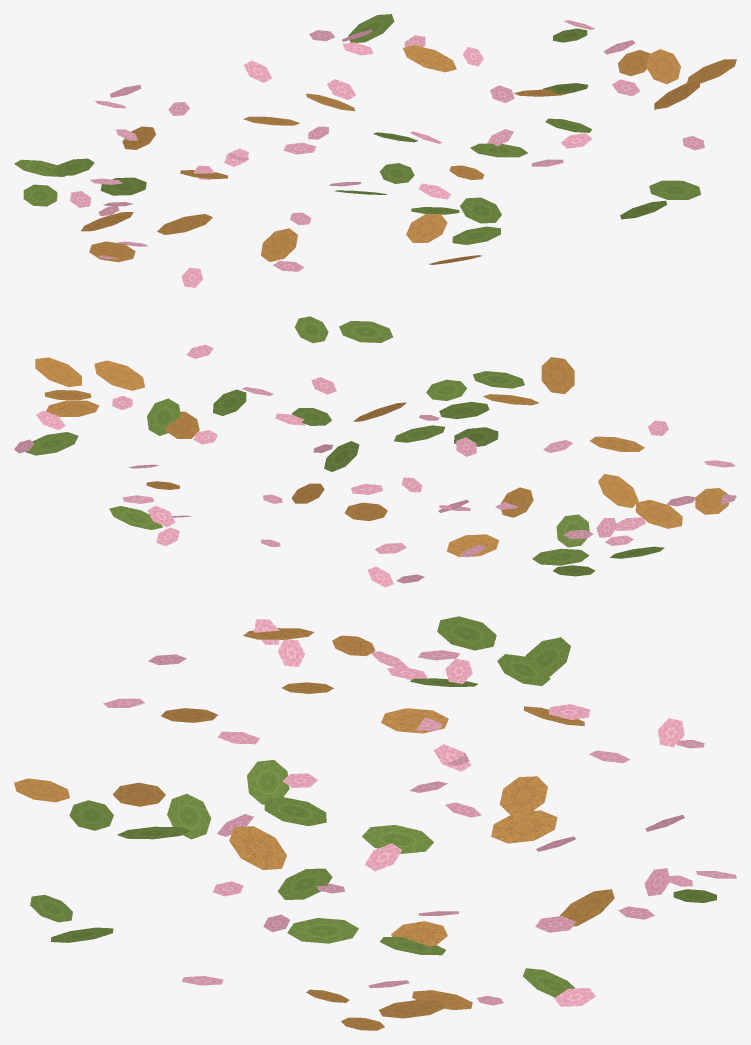
File: petal_drift_own.glb
3 renders of one model, top to bottom at view 1: azimuth 30°, elevation 25°; view 2: azimuth 150°, elevation 25°; view 3: azimuth 270°, elevation 25°, orthographic. The views are drawn at different scales.
Parts seen in each view (by area): view 1: Circle; view 2: Circle; view 3: Circle.
Boxes of the visible parts, left/top/right/bottom form: Circle: left=14, top=14, right=736, bottom=287; Circle: left=14, top=316, right=736, bottom=587; Circle: left=14, top=616, right=736, bottom=1030.
Size of the model in its own units: 1.06 by 0.0291 by 0.7742.
Materials: 3 (3 with a texture image).
